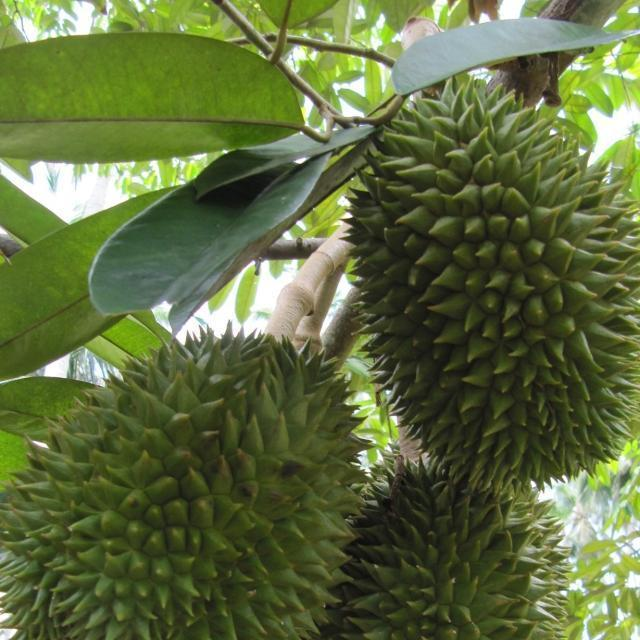UNRIPE: (350, 68, 640, 480), (0, 320, 353, 640), (345, 443, 567, 640)
